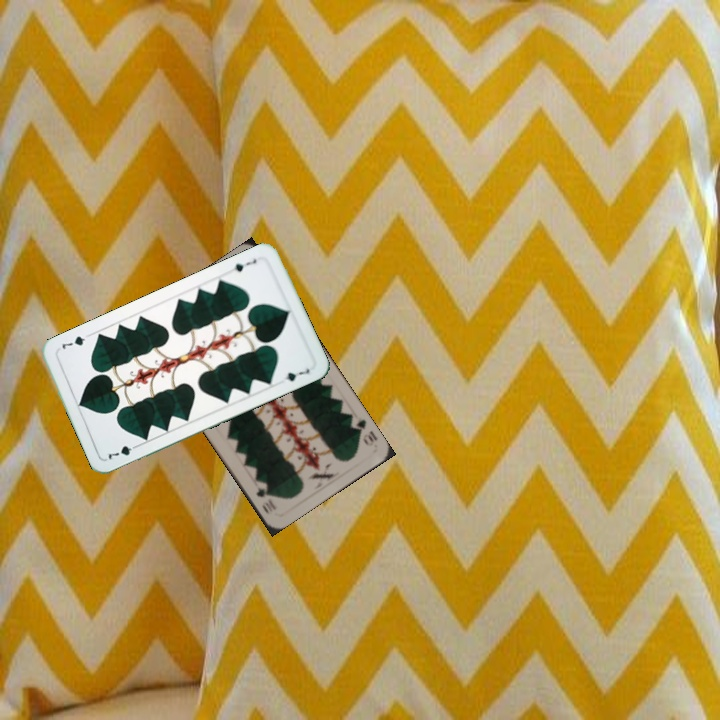G10: (346, 415, 380, 449)
G7: (104, 440, 142, 462), (230, 255, 259, 274)
